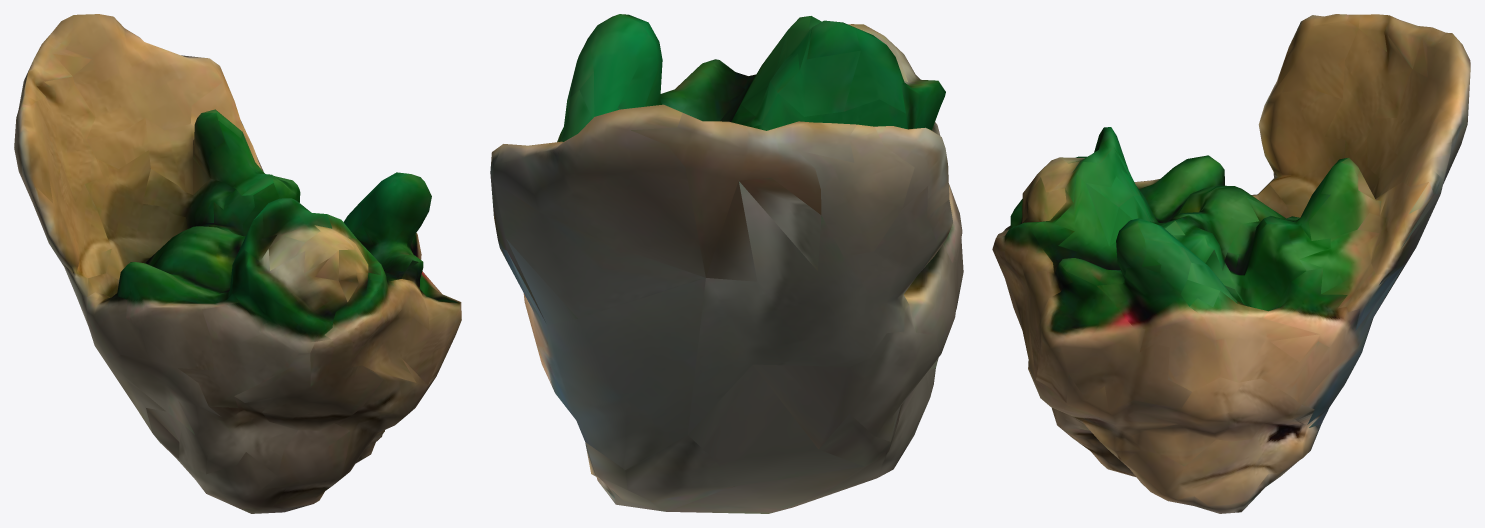
File: lucy-pita.glb
3 renders of one model, left to right at view 1: azimuth 30°, elevation 25°; view 2: azimuth 150°, elevation 25°; view 3: azimuth 270°, elevation 25°, orthographic. The views are drawn at different scales.
Visible parts, largest first — view 1: Mesh_0; view 2: Mesh_0; view 3: Mesh_0.
Boxes of the visible parts, x1=… form: Mesh_0: x1=14, y1=14, x2=461, y2=513; Mesh_0: x1=490, y1=14, x2=963, y2=513; Mesh_0: x1=992, y1=14, x2=1470, y2=513.
Size of the model in its own units: 0.5642 by 0.6464 by 0.6765.
1 material, 1 textured.
